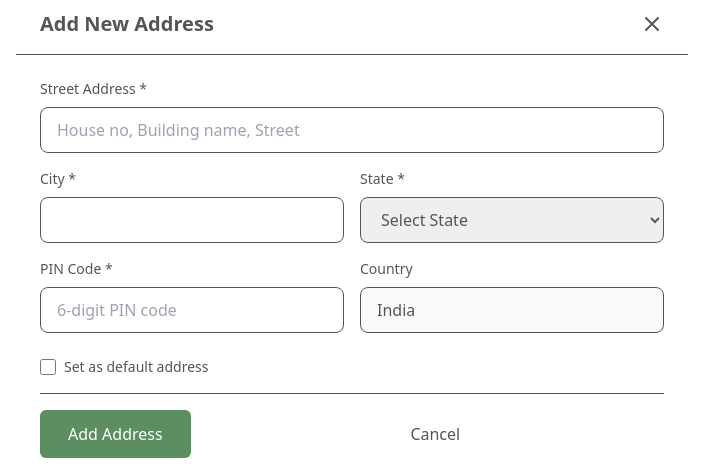
Test case: AddressFormModal › Unit Tests › should only allow numeric input in PIN code field
Type "abc123xyz" into the field with placeholder "6-digit PIN code". click: (192, 310)
box: 40,287 -> 344,333
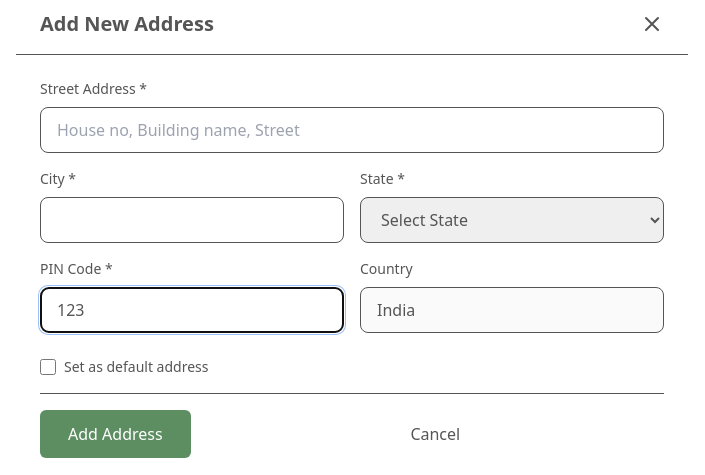
Check: the field with placeholder "6-digit PIN code" holds "123", box 40,287 -> 344,333
